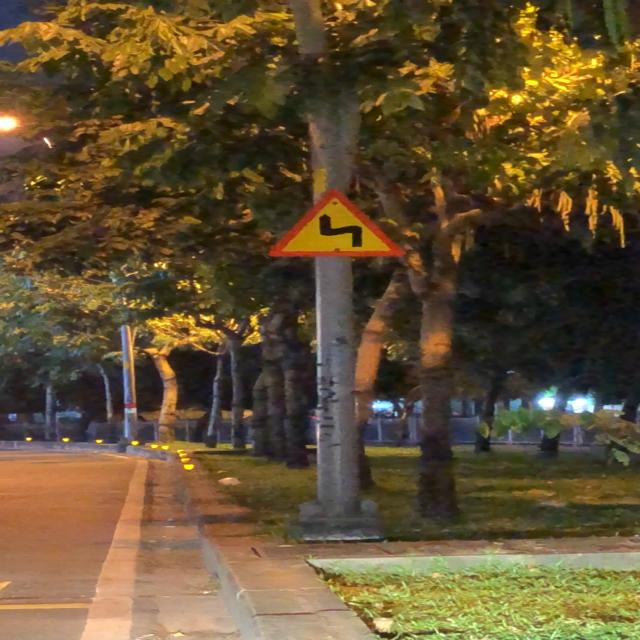Bien bao nhieu cho ngoat nguy hiem lien tiep: (260, 186, 422, 261)
